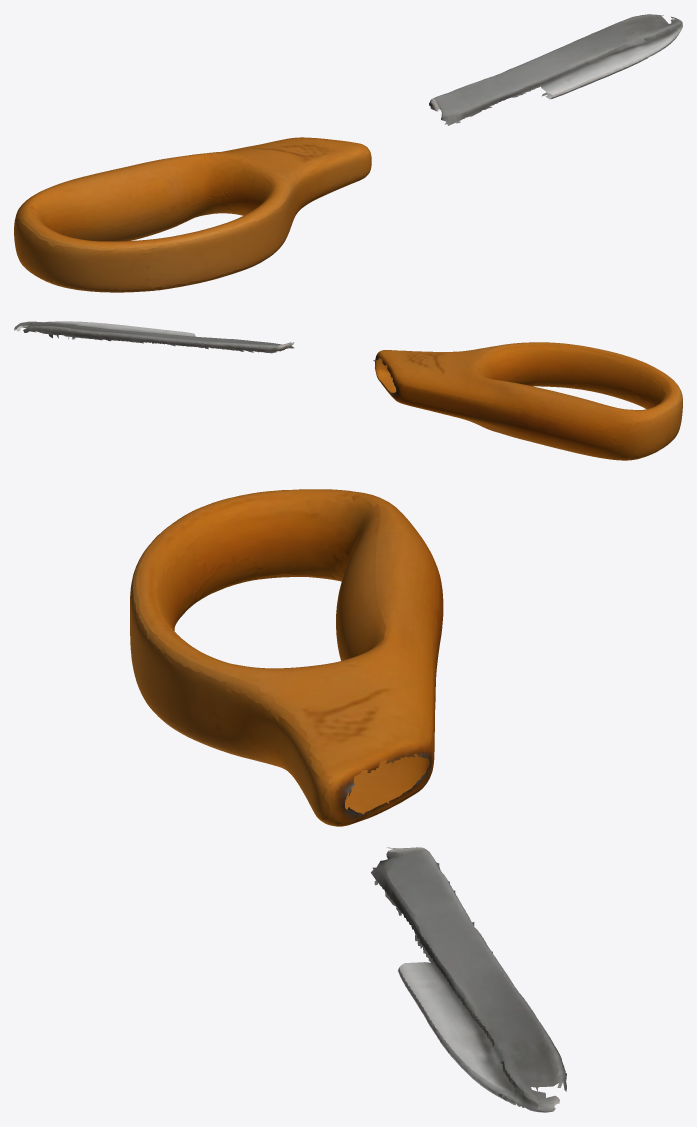
3 renders of one model, top to bottom at view 1: azimuth 30°, elevation 25°; view 2: azimuth 150°, elevation 25°; view 3: azimuth 270°, elevation 25°, orthographic. The views are drawn at different scales.
Visible parts, largest first — view 1: world; view 2: world; view 3: world.
Part boxes in pixels (x1,y1,x2,y2): world: (14,14,682,292); world: (14,321,682,460); world: (130,489,566,1112).
Bounding box in the file's own units: 0.21 × 0.0184 × 0.0667.
1 material, 1 textured.
